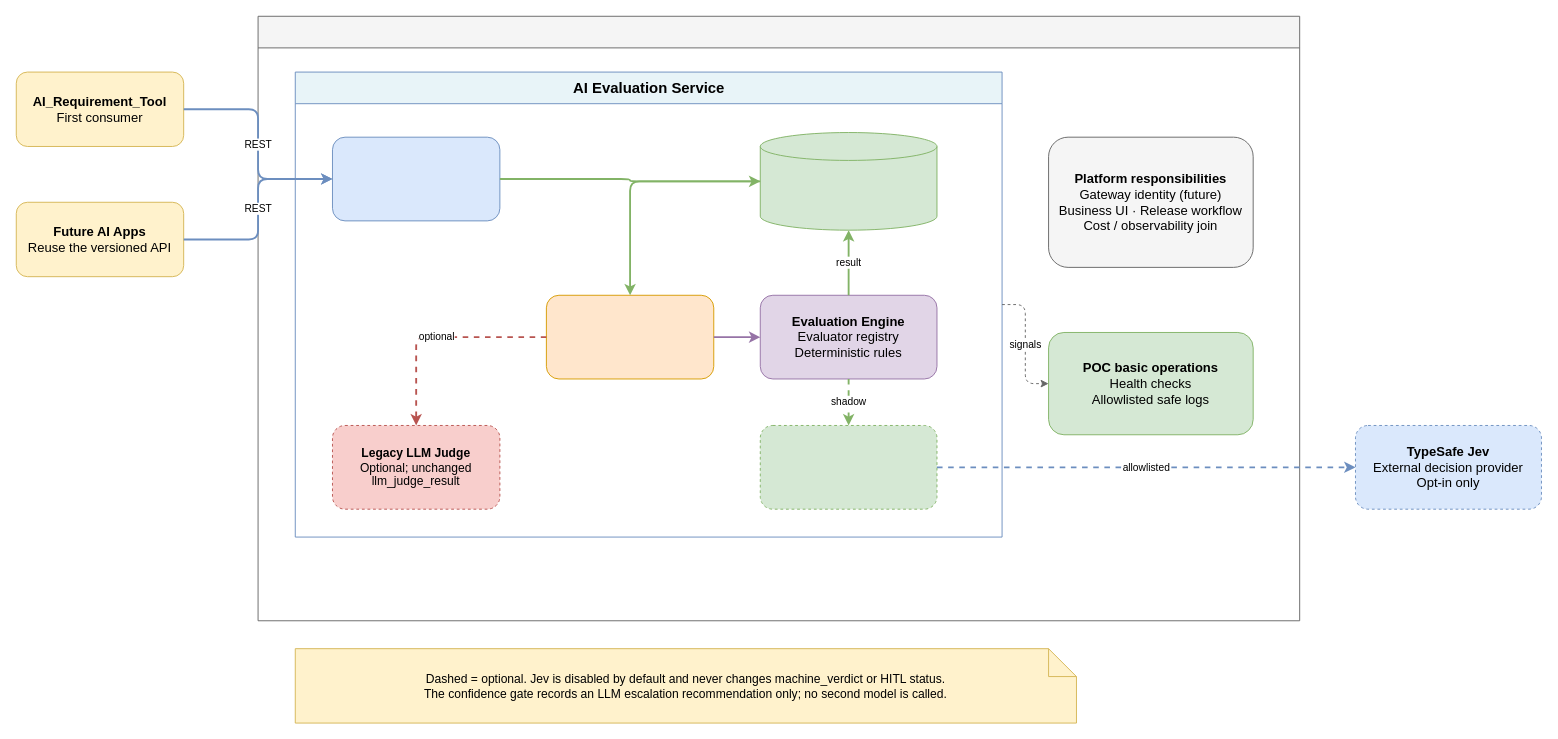
The diagram is 1558 pixels wide and 739 high, and some of its shapes have lost their labels. The shapes that lost their labels are listed below. From the top down, each one's centre as x and y in pixels, then its label:
point 416,178: REST API Submit · Query · Review Authorization · OpenAPI
point 848,181: PostgreSQL Jobs + evaluations Deterministic + shadow results Review evidence
point 629,336: Worker Claim · Lease Expired-lease recovery
point 848,467: Decision Judge Project allowlist + rubric gate Shadow result only
